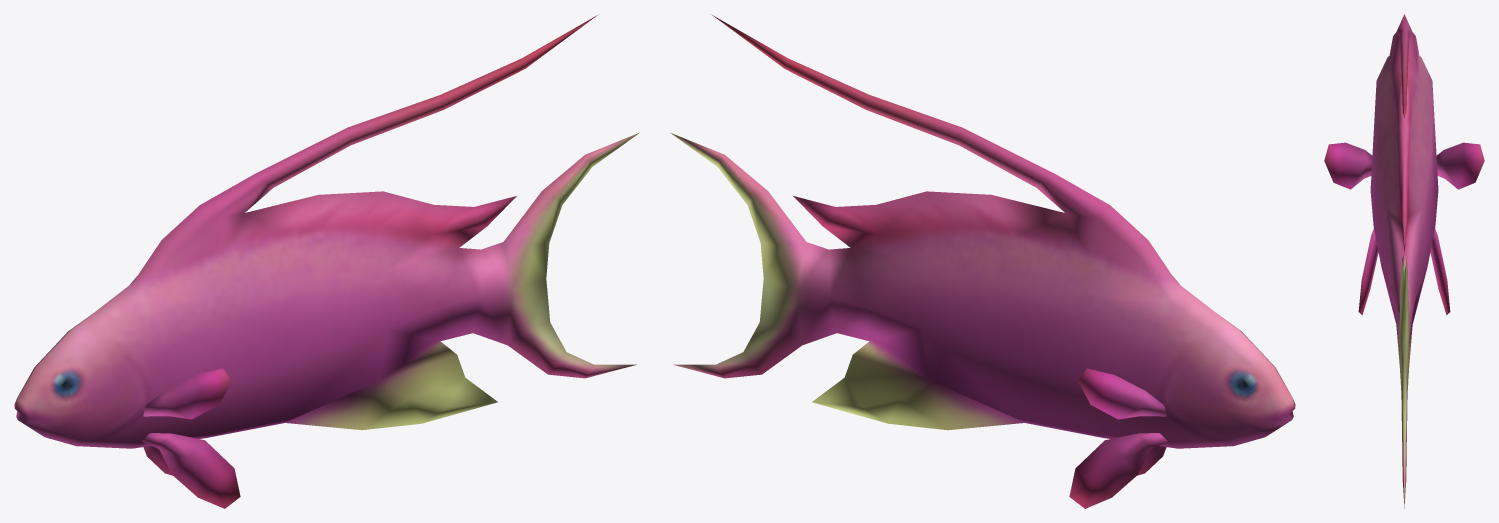
File: f11_yanwanlu.FBX
3 views of the same model, side by side, from view 1: azimuth 30°, elevation 25°; view 2: azimuth 150°, elevation 25°; view 3: azimuth 270°, elevation 25° (orthographic). The views are drawn at different scales.
Parts seen in each view (by area): view 1: f11_yanwanlu; view 2: f11_yanwanlu; view 3: f11_yanwanlu.
Boxes of the visible parts, bbox=[...] form: f11_yanwanlu: bbox=[14, 15, 639, 508]; f11_yanwanlu: bbox=[670, 15, 1295, 508]; f11_yanwanlu: bbox=[1324, 14, 1484, 508].
Size of the model in its own units: 71.66 by 41.99 by 15.44.
Materials: 1 (1 with a texture image).
